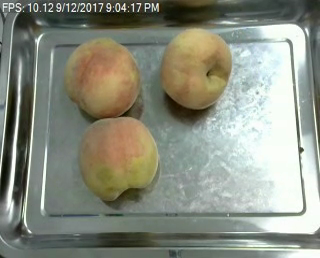Peach: (77, 116, 160, 201), (65, 36, 143, 118), (159, 29, 232, 108)
